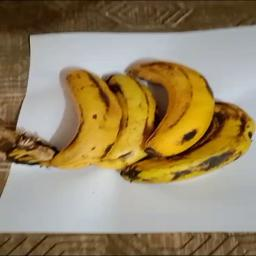Banana Semifresh: (142, 49, 256, 187), (2, 60, 118, 174), (104, 66, 157, 182)
